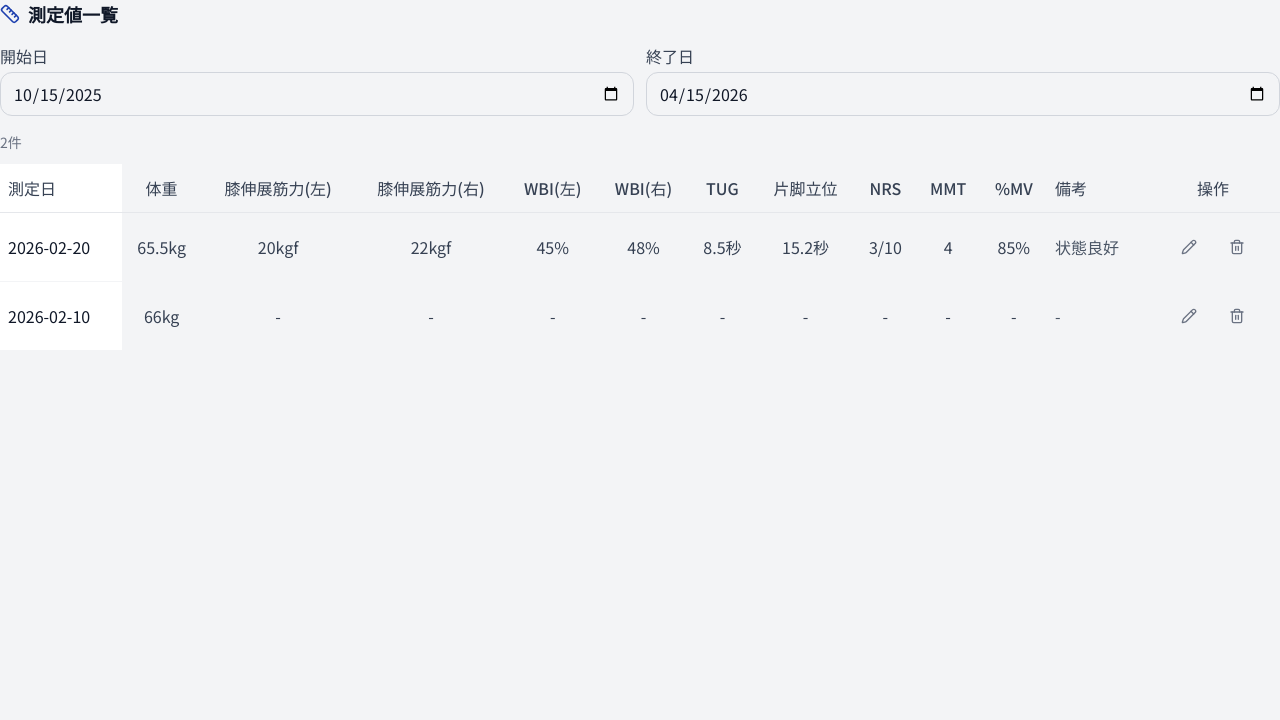
Test: PatientMeasurementsTab › opens delete dialog when delete button is clicked
Click the button named "2026-02-20の測定値を削除": (1237, 247) [1215, 225, 1259, 269]
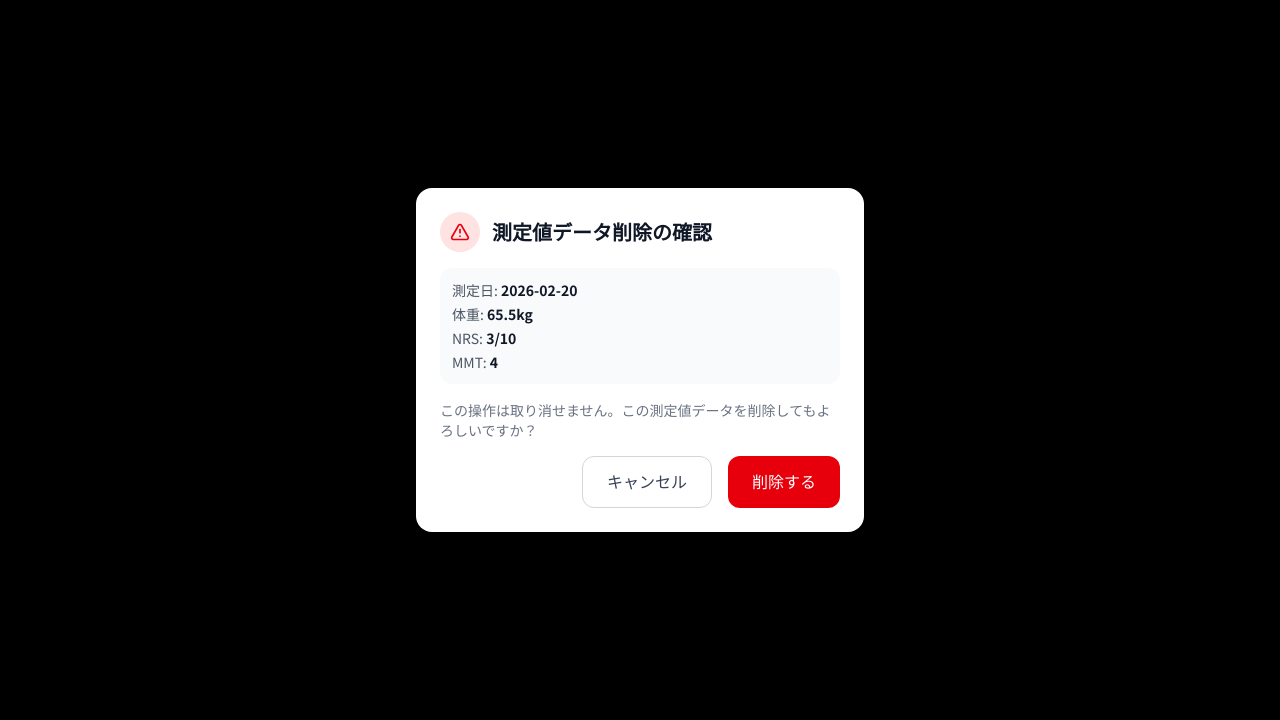
Expected: the heading "測定値データ削除の確認" is shown, [492, 218, 712, 246]
